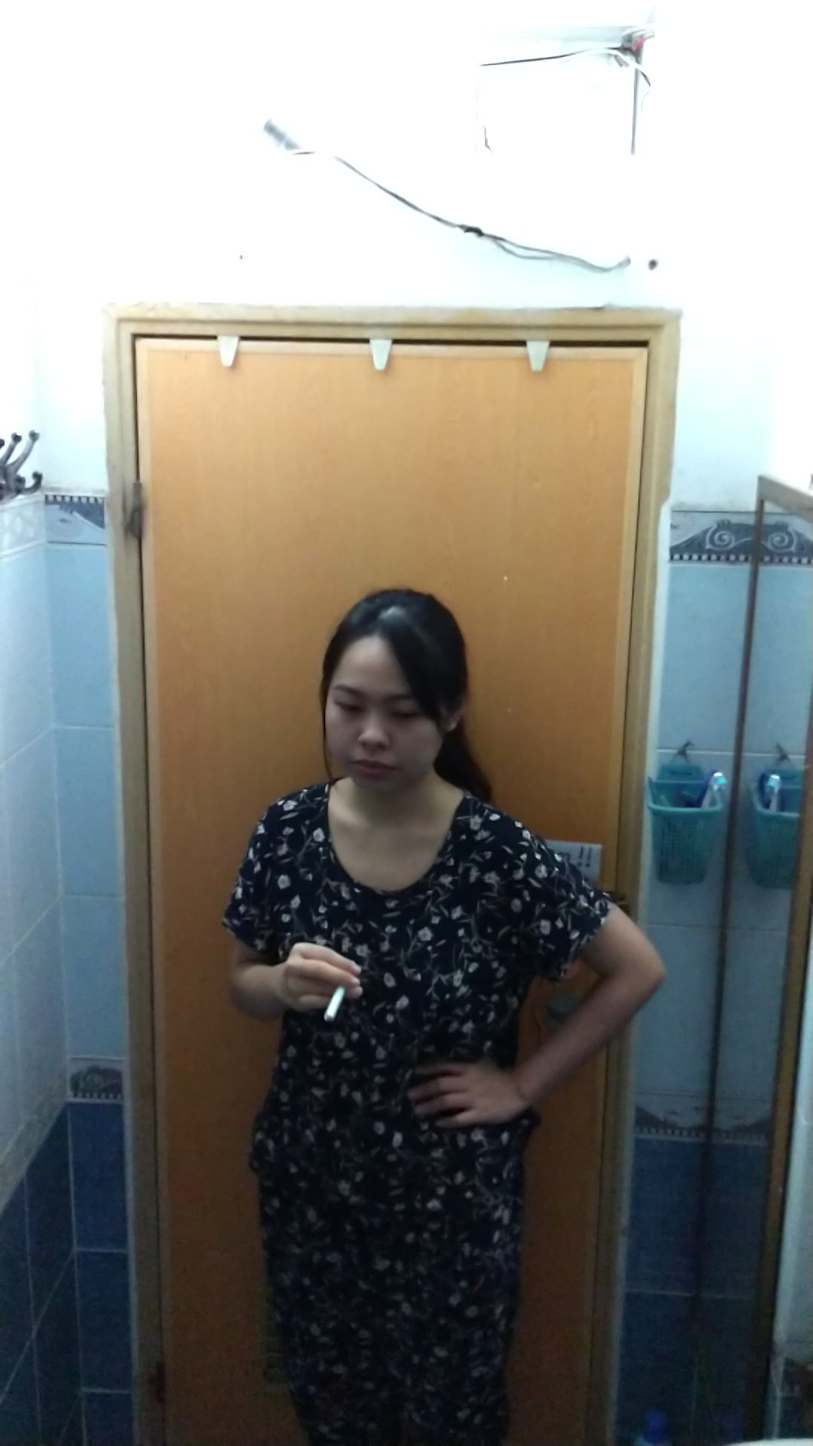cigarette: (318, 984, 348, 1027)
person: (212, 587, 660, 1446)
